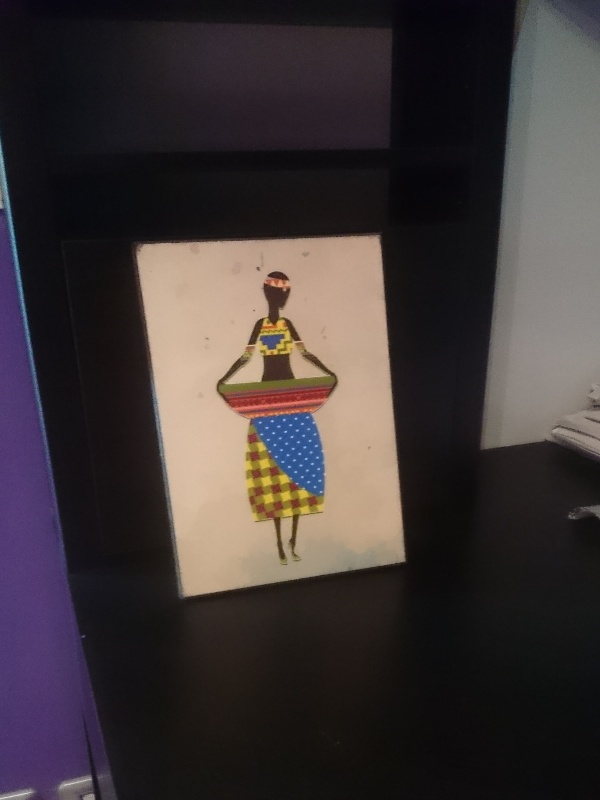my image: (138, 230, 407, 598)
